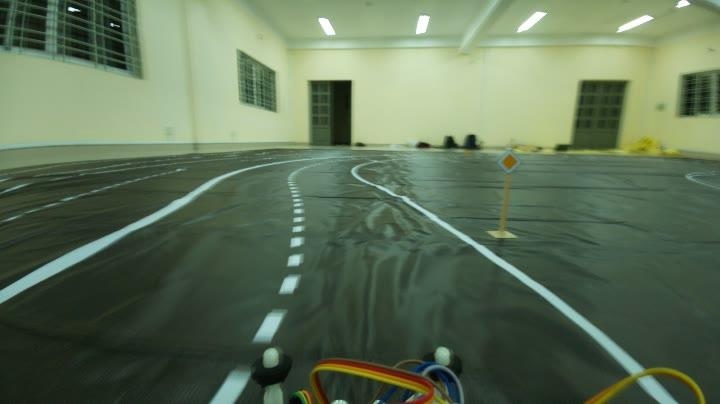priority: (498, 151, 518, 174)
